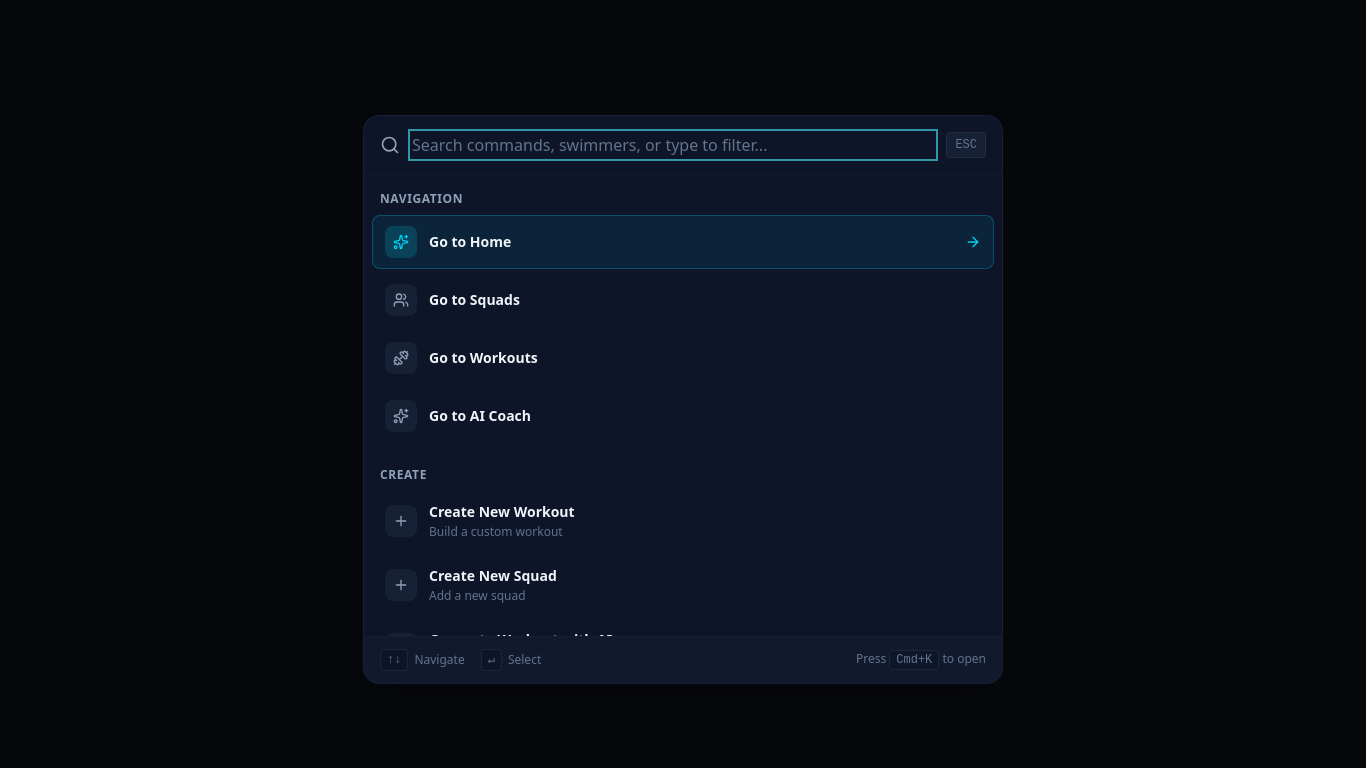
Test case: CommandPalette › filters commands when typing in search
Step 1. Type "workout" into the field with placeholder "Search commands, swimmers, or type to filter..." → (673, 145), box [412,133,934,157]
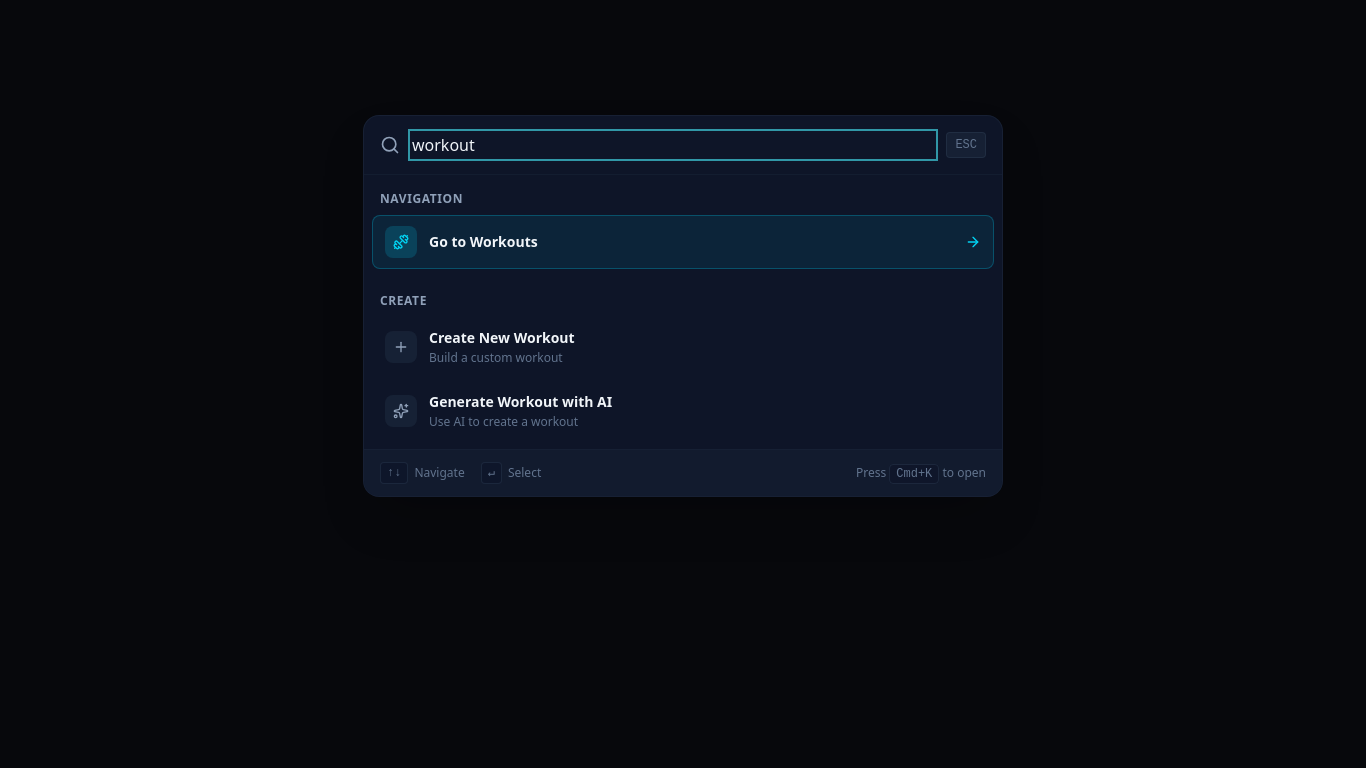
Expected: the text "Create New Workout" is shown, [429,328,575,347]
Now the button "Go to Home" is gone
